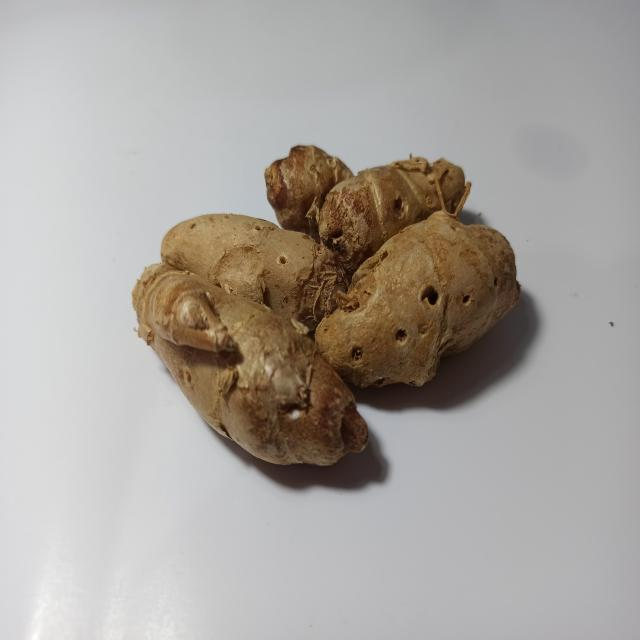ginger: (137, 138, 518, 466)
